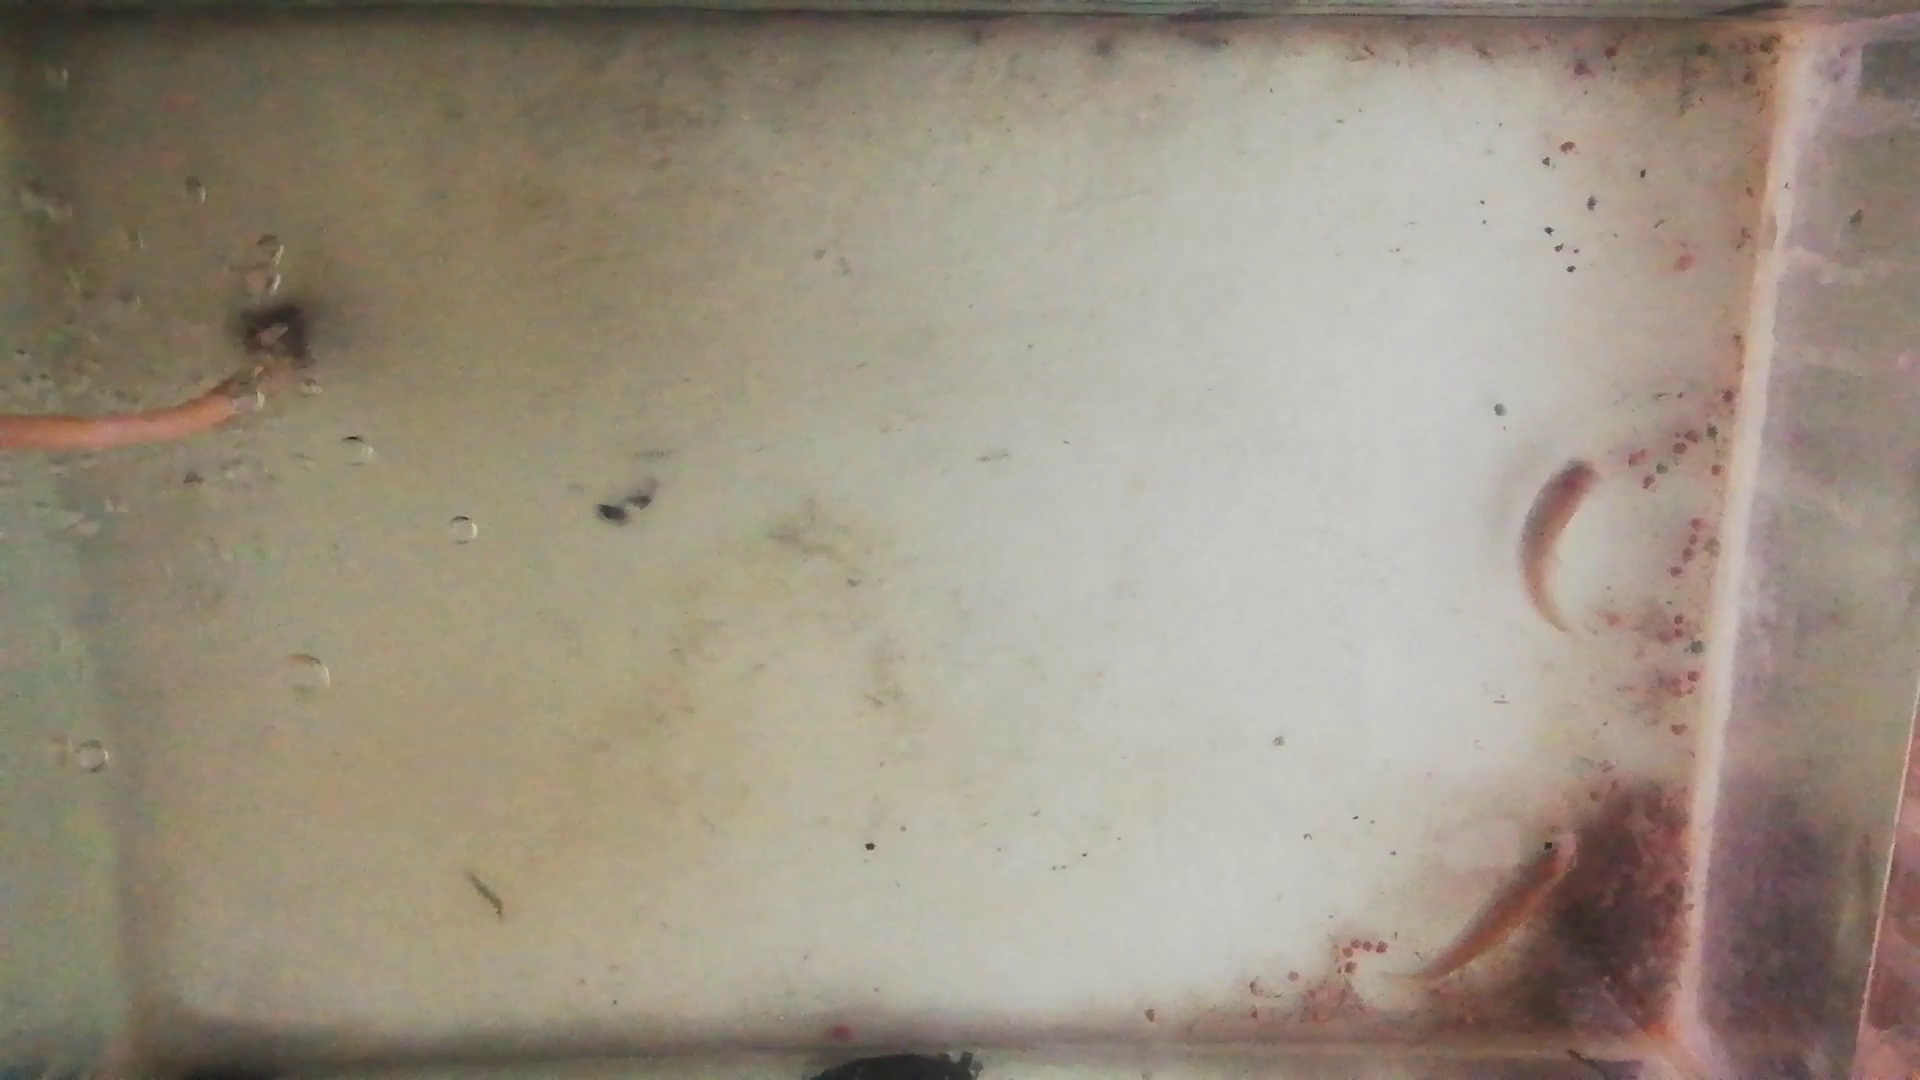fish: (1425, 832, 1575, 981), (1515, 458, 1604, 630)
